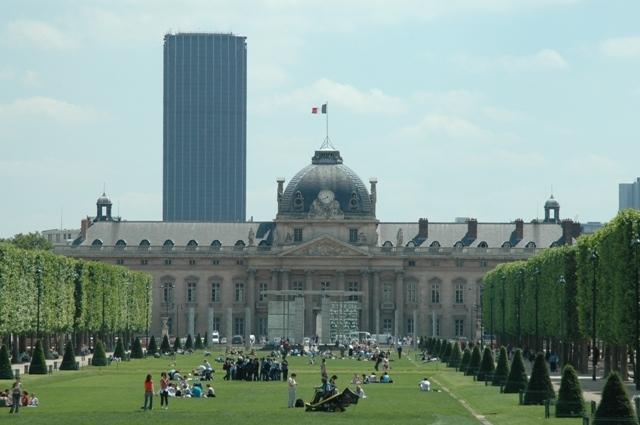building: (43, 100, 583, 340), (162, 27, 247, 222), (619, 178, 640, 215)
